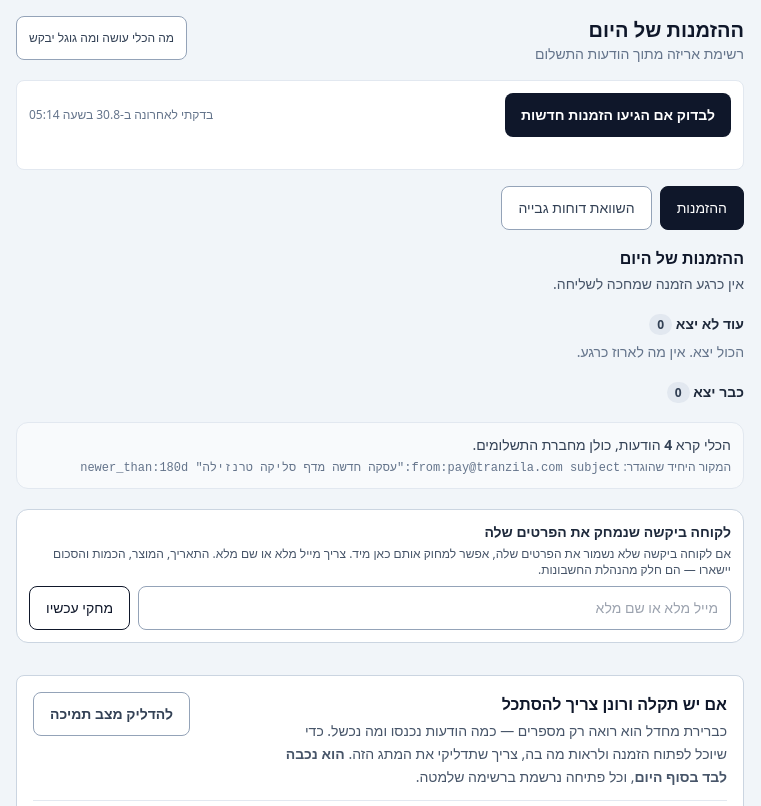
מה כתוב על המסך אחרי הבדיקה › ★ חיבור שפג מפנה לבאנר הקיים ואינו אומר את אותו דבר פעמיים
Step 1. Click the button "לבדוק אם הגיעו הזמנות חדשות" → click(618, 115), box [505,93,731,137]
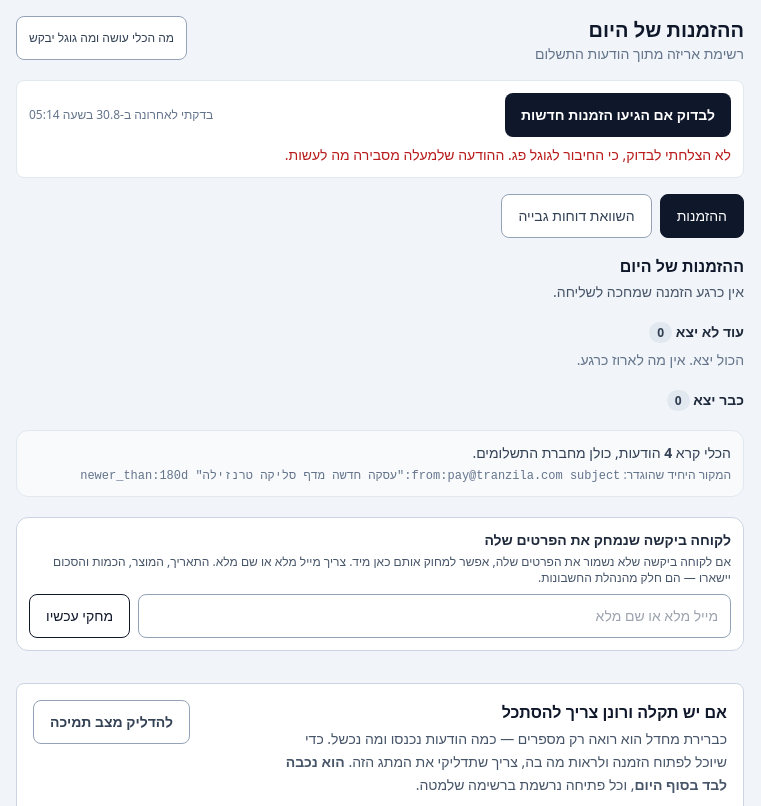
Expected: the text "ההודעה שלמעלה מסבירה מה לעשות" is shown, [285,145,731,164]
